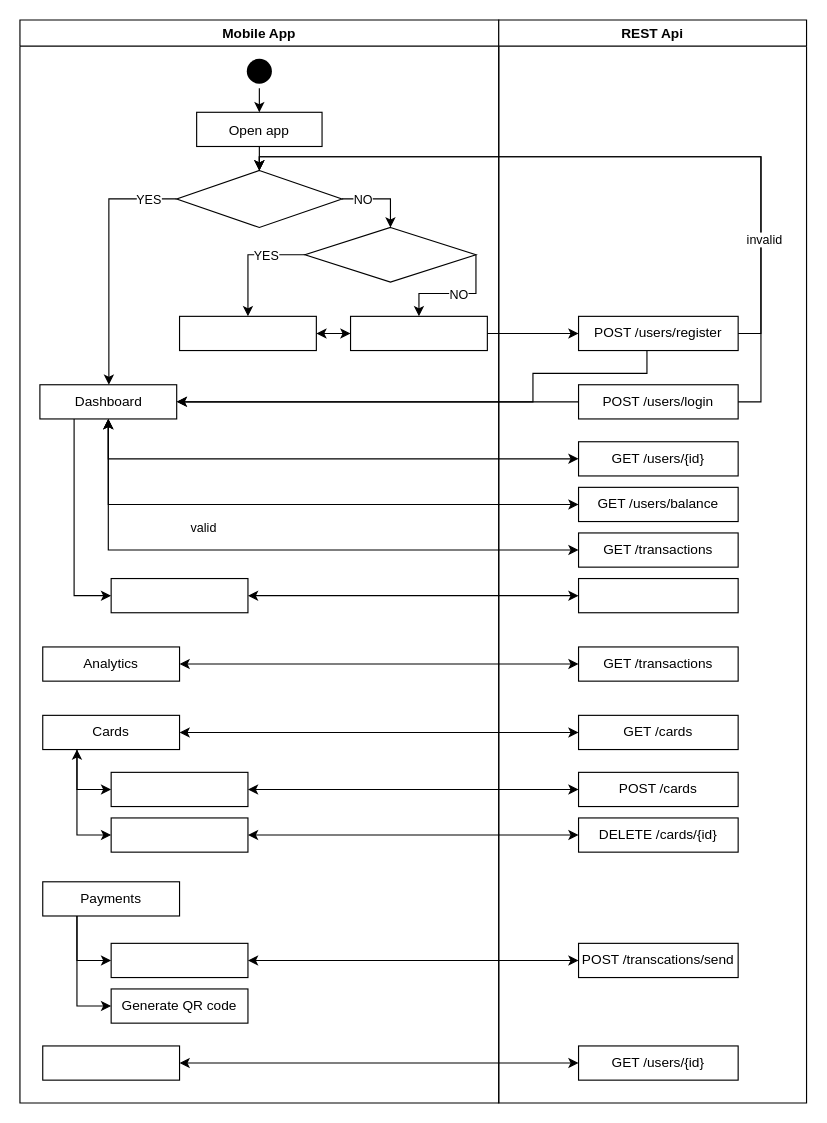
Some shapes in this 827 by 1123 pixel diagram are drawn without their labels. The centre of each missing label's shape, as x and y in pixels:
Add card: [179,789]
Delete card: [179,834]
is user logged in: [259,198]
is user registered: [390,254]
Login page: [247,333]
POST /user/balance: [657,595]
Profile: [111,1062]
Register page: [418,333]
Scan QR Code: [179,960]
topup: [179,595]
